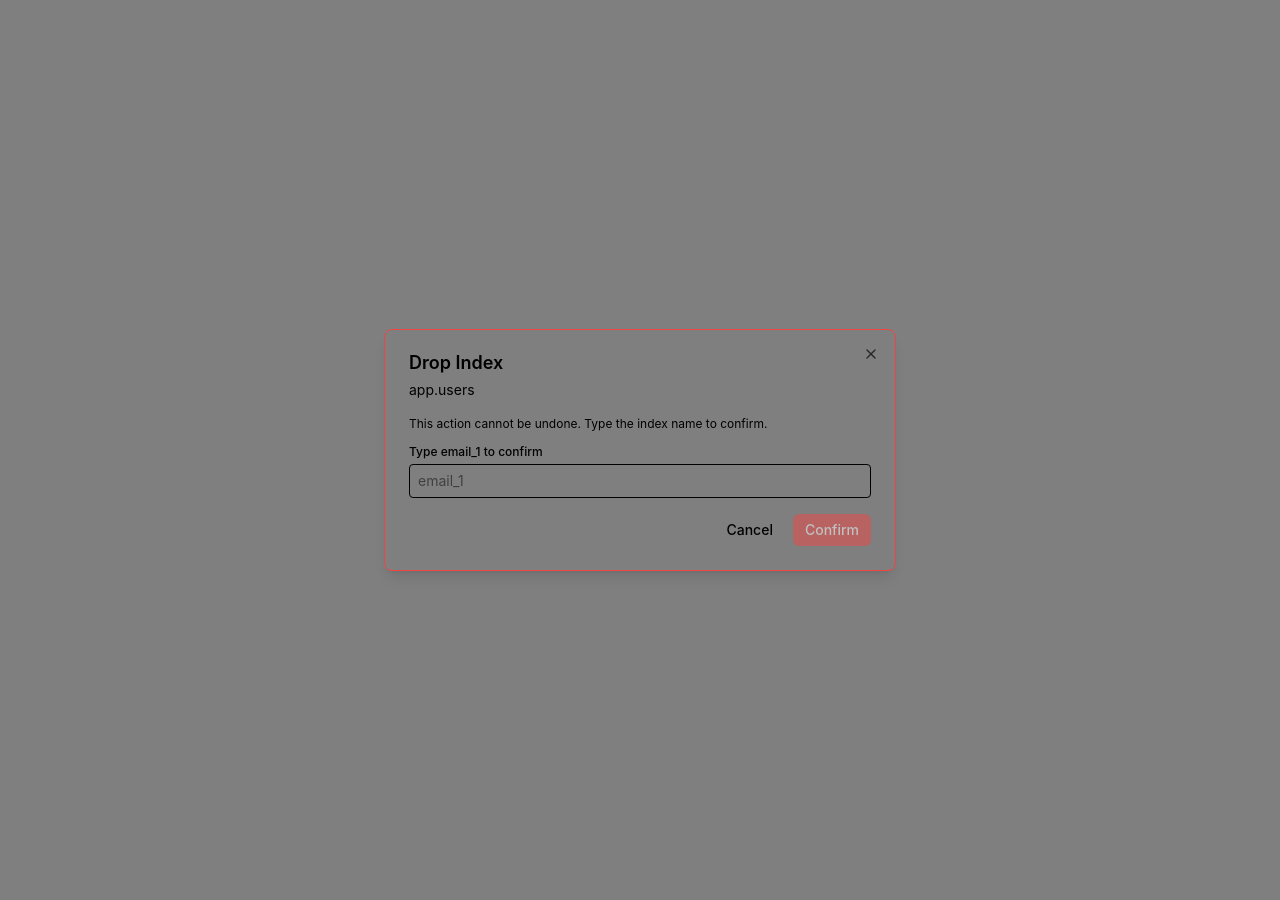
Test: DropMongoIndexDialog › disables Confirm until the user types the exact index name
The width and height of the screenshot is (1280, 900).
Check: the button with test id "mongo-drop-index-confirm" is disabled, box [793,514,871,546]
In the field with test id "mongo-drop-index-typing": (640, 481) [409,464,871,498], type "email"
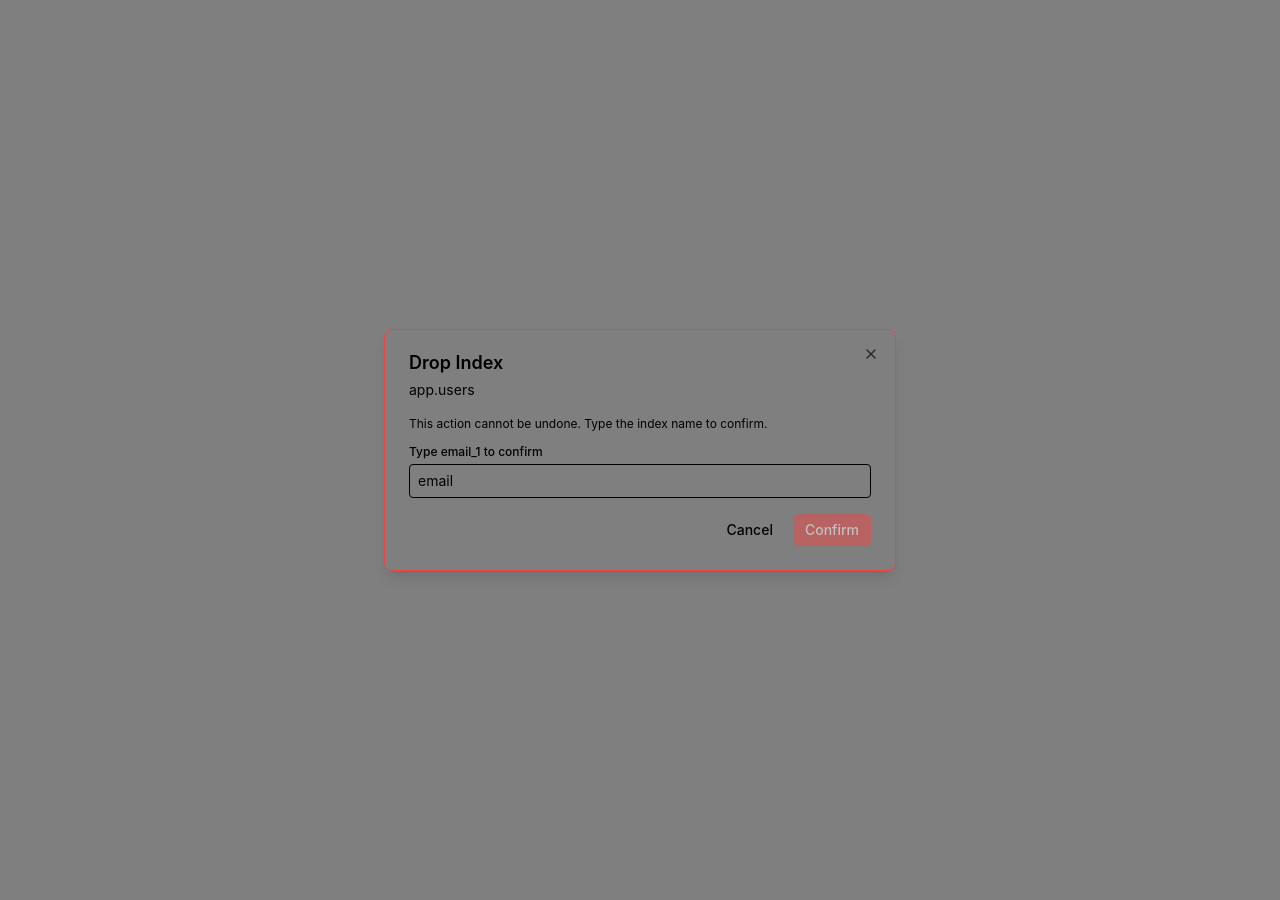
Check: the button with test id "mongo-drop-index-confirm" is disabled, box [793,514,871,546]
Replace the text in the field with test id "mongo-drop-index-typing" with "email_1": (640, 481) [409,464,871,498]
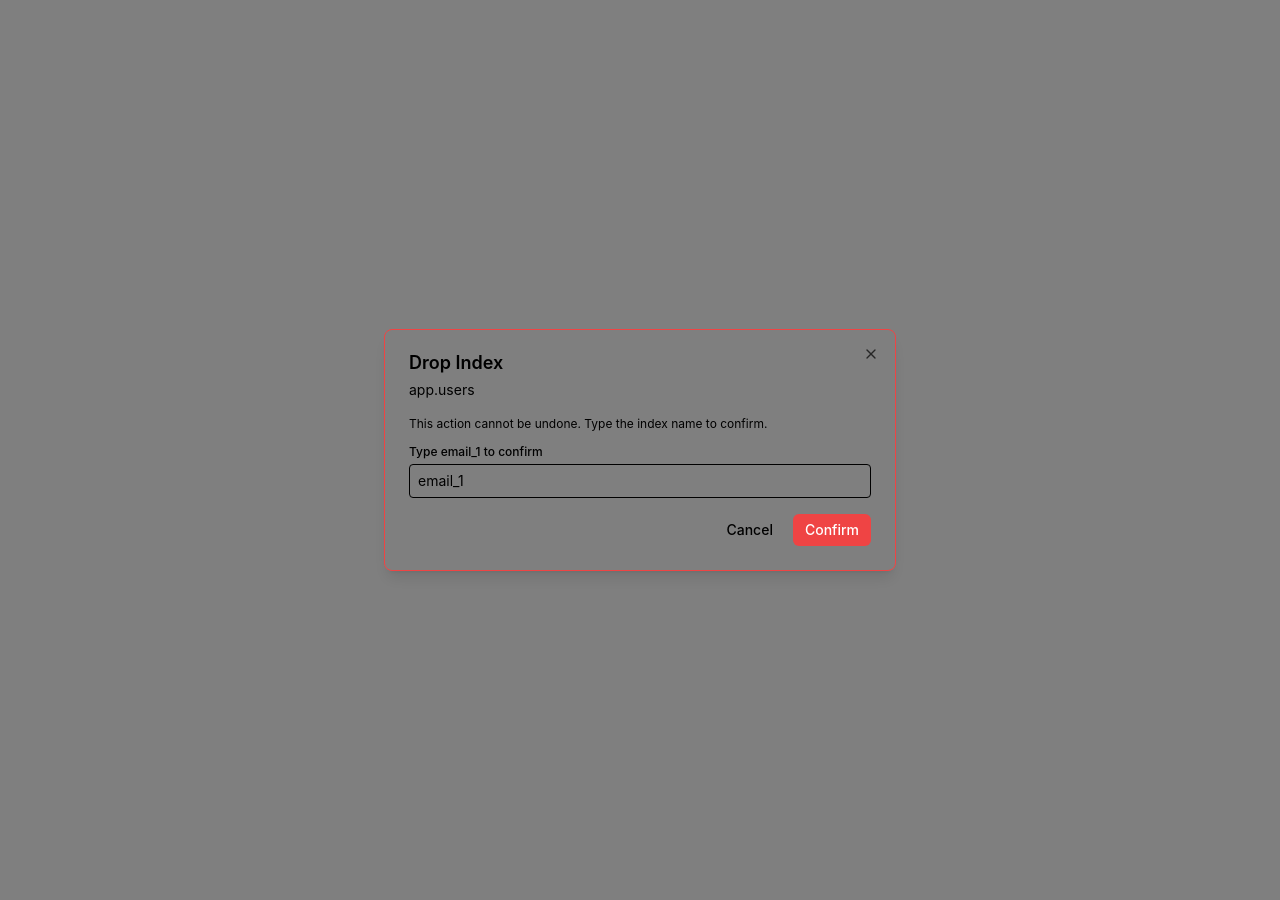
Check: the button with test id "mongo-drop-index-confirm" is enabled, box [793,514,871,546]
